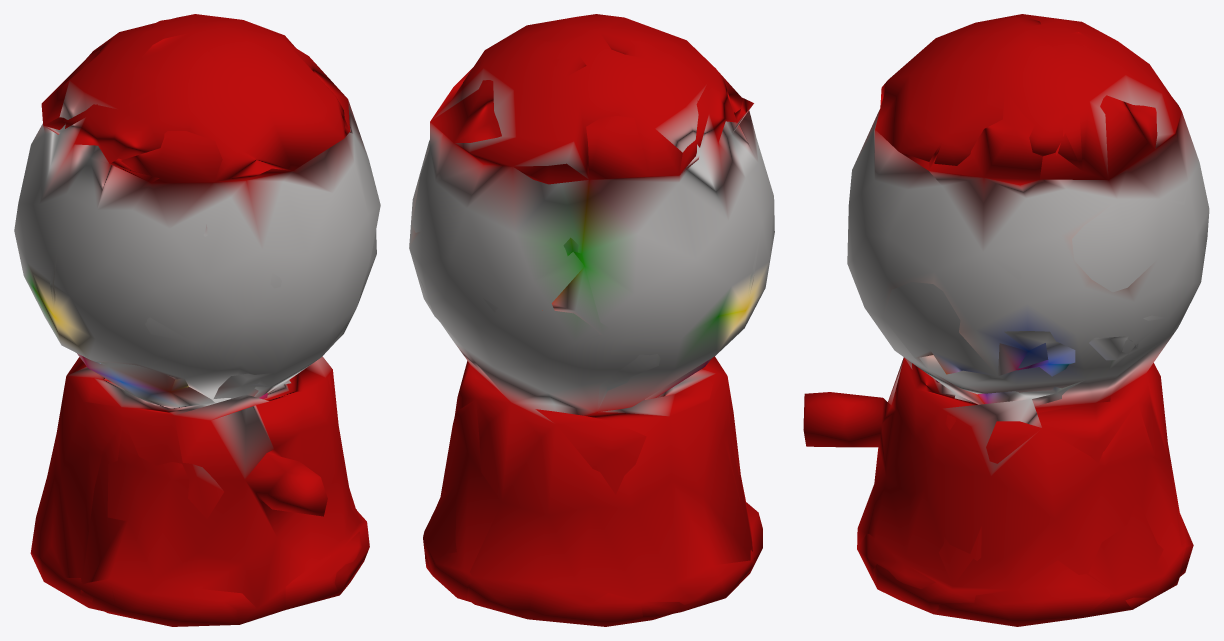
File: gen3d-gumball-machine-lod0.glb
3 views of the same model, side by side, from view 1: azimuth 30°, elevation 25°; view 2: azimuth 150°, elevation 25°; view 3: azimuth 270°, elevation 25° (orthographic).
Visible parts, largest first — view 1: part_0; view 2: part_0; view 3: part_0.
Part boxes in pixels (<box>): part_0: <box>14,14,380,626</box>; part_0: <box>409,14,774,626</box>; part_0: <box>803,14,1209,626</box>.
Size of the model in its own units: 0.6187 by 0.9938 by 0.6916.
